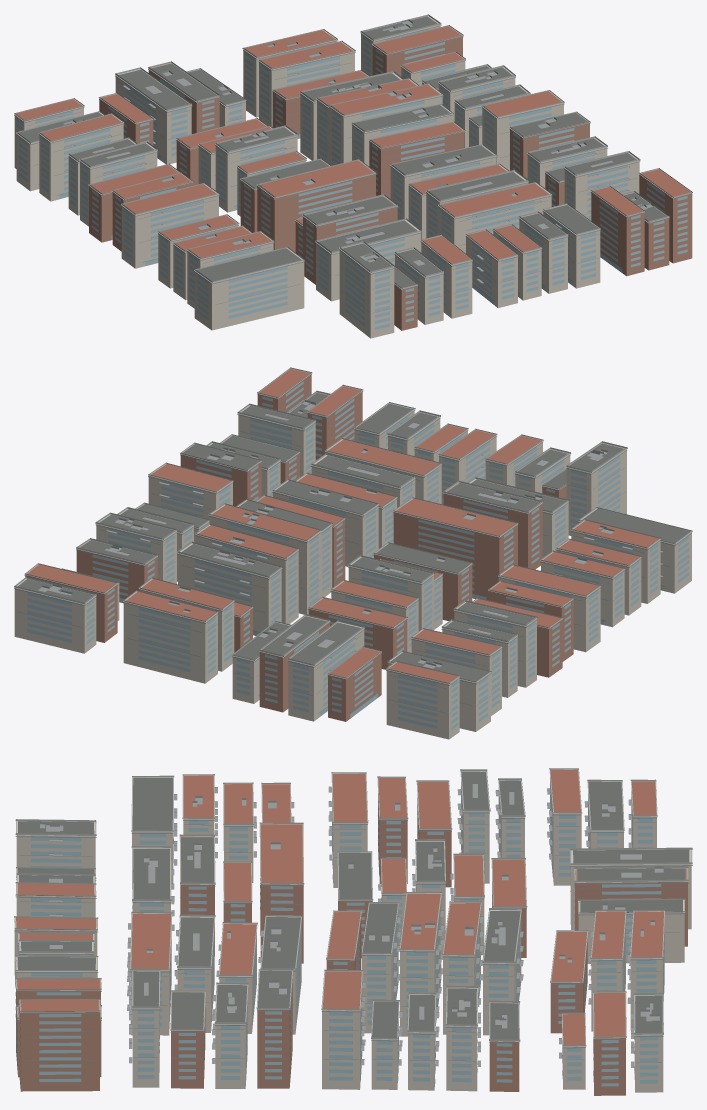
The model's file is tile-p001-p002.glb.
3 renders of one model, top to bottom at view 1: azimuth 30°, elevation 25°; view 2: azimuth 150°, elevation 25°; view 3: azimuth 270°, elevation 25°, orthographic. The views are drawn at different scales.
Visible parts, largest first — view 1: building-0849-mesh-21, building-0895-mesh-120, building-0888-mesh-77, building-0850-mesh-27, building-1023-mesh-286, building-0855-mesh-58, building-0849-mesh-22, building-0966-mesh-261, building-1025-mesh-297, building-0969-mesh-273, building-0902-mesh-162, building-0958-mesh-205 (+113 smaller); view 2: building-0968-mesh-266, building-0895-mesh-120, building-1036-mesh-359, building-0857-mesh-71, building-0962-mesh-233, building-0888-mesh-77, building-0902-mesh-162, building-0968-mesh-267, building-0893-mesh-109, building-0964-mesh-247, building-0901-mesh-157, building-0895-mesh-123 (+99 smaller); view 3: building-1025-mesh-297, building-1029-mesh-321, building-1030-mesh-327, building-0895-mesh-123, building-0849-mesh-25, building-0958-mesh-209, building-0903-mesh-169, building-0888-mesh-77, building-0964-mesh-251, building-0964-mesh-247, building-1027-mesh-309, building-1026-mesh-302 (+107 smaller).
Boxes of the visible parts, box(x1,y1,x2,y2) form: building-0849-mesh-21: box(194, 248, 304, 330); building-0895-mesh-120: box(257, 160, 375, 252); building-0888-mesh-77: box(339, 243, 394, 338); building-0850-mesh-27: box(121, 184, 218, 268); building-1023-mesh-286: box(591, 192, 644, 276); building-0855-mesh-58: box(39, 115, 123, 201); building-0849-mesh-22: box(197, 266, 287, 320); building-0966-mesh-261: box(369, 123, 464, 198); building-1025-mesh-297: box(639, 174, 692, 263); building-0969-mesh-273: box(259, 42, 354, 126); building-0902-mesh-162: box(115, 69, 191, 164); building-0958-mesh-205: box(438, 183, 551, 253); building-0968-mesh-266: box(123, 592, 217, 683); building-0895-mesh-120: box(393, 499, 517, 600); building-1036-mesh-359: box(14, 579, 96, 653); building-0857-mesh-71: box(386, 667, 459, 739); building-0962-mesh-233: box(178, 543, 281, 635); building-0888-mesh-77: box(566, 443, 626, 535); building-0902-mesh-162: box(288, 622, 364, 721); building-0968-mesh-267: box(138, 607, 215, 673); building-0893-mesh-109: box(443, 483, 542, 569); building-0964-mesh-247: box(209, 505, 321, 614); building-0901-mesh-157: box(328, 652, 381, 721); building-0895-mesh-123: box(396, 498, 515, 535); building-1025-mesh-297: box(19, 1000, 99, 1091); building-1029-mesh-321: box(257, 979, 292, 1088); building-1030-mesh-327: box(322, 982, 362, 1089); building-0895-mesh-123: box(261, 824, 302, 882); building-0849-mesh-25: box(132, 777, 172, 830); building-0958-mesh-209: box(131, 913, 171, 969); building-0903-mesh-169: box(575, 868, 687, 946); building-0888-mesh-77: box(16, 821, 95, 867); building-0964-mesh-251: box(400, 893, 440, 949); building-0964-mesh-247: box(400, 893, 441, 1036); building-1027-mesh-309: box(171, 992, 205, 1088); building-1026-mesh-302: box(132, 971, 159, 1087).
Size of the model in its own units: 261 by 41.65 by 286.
